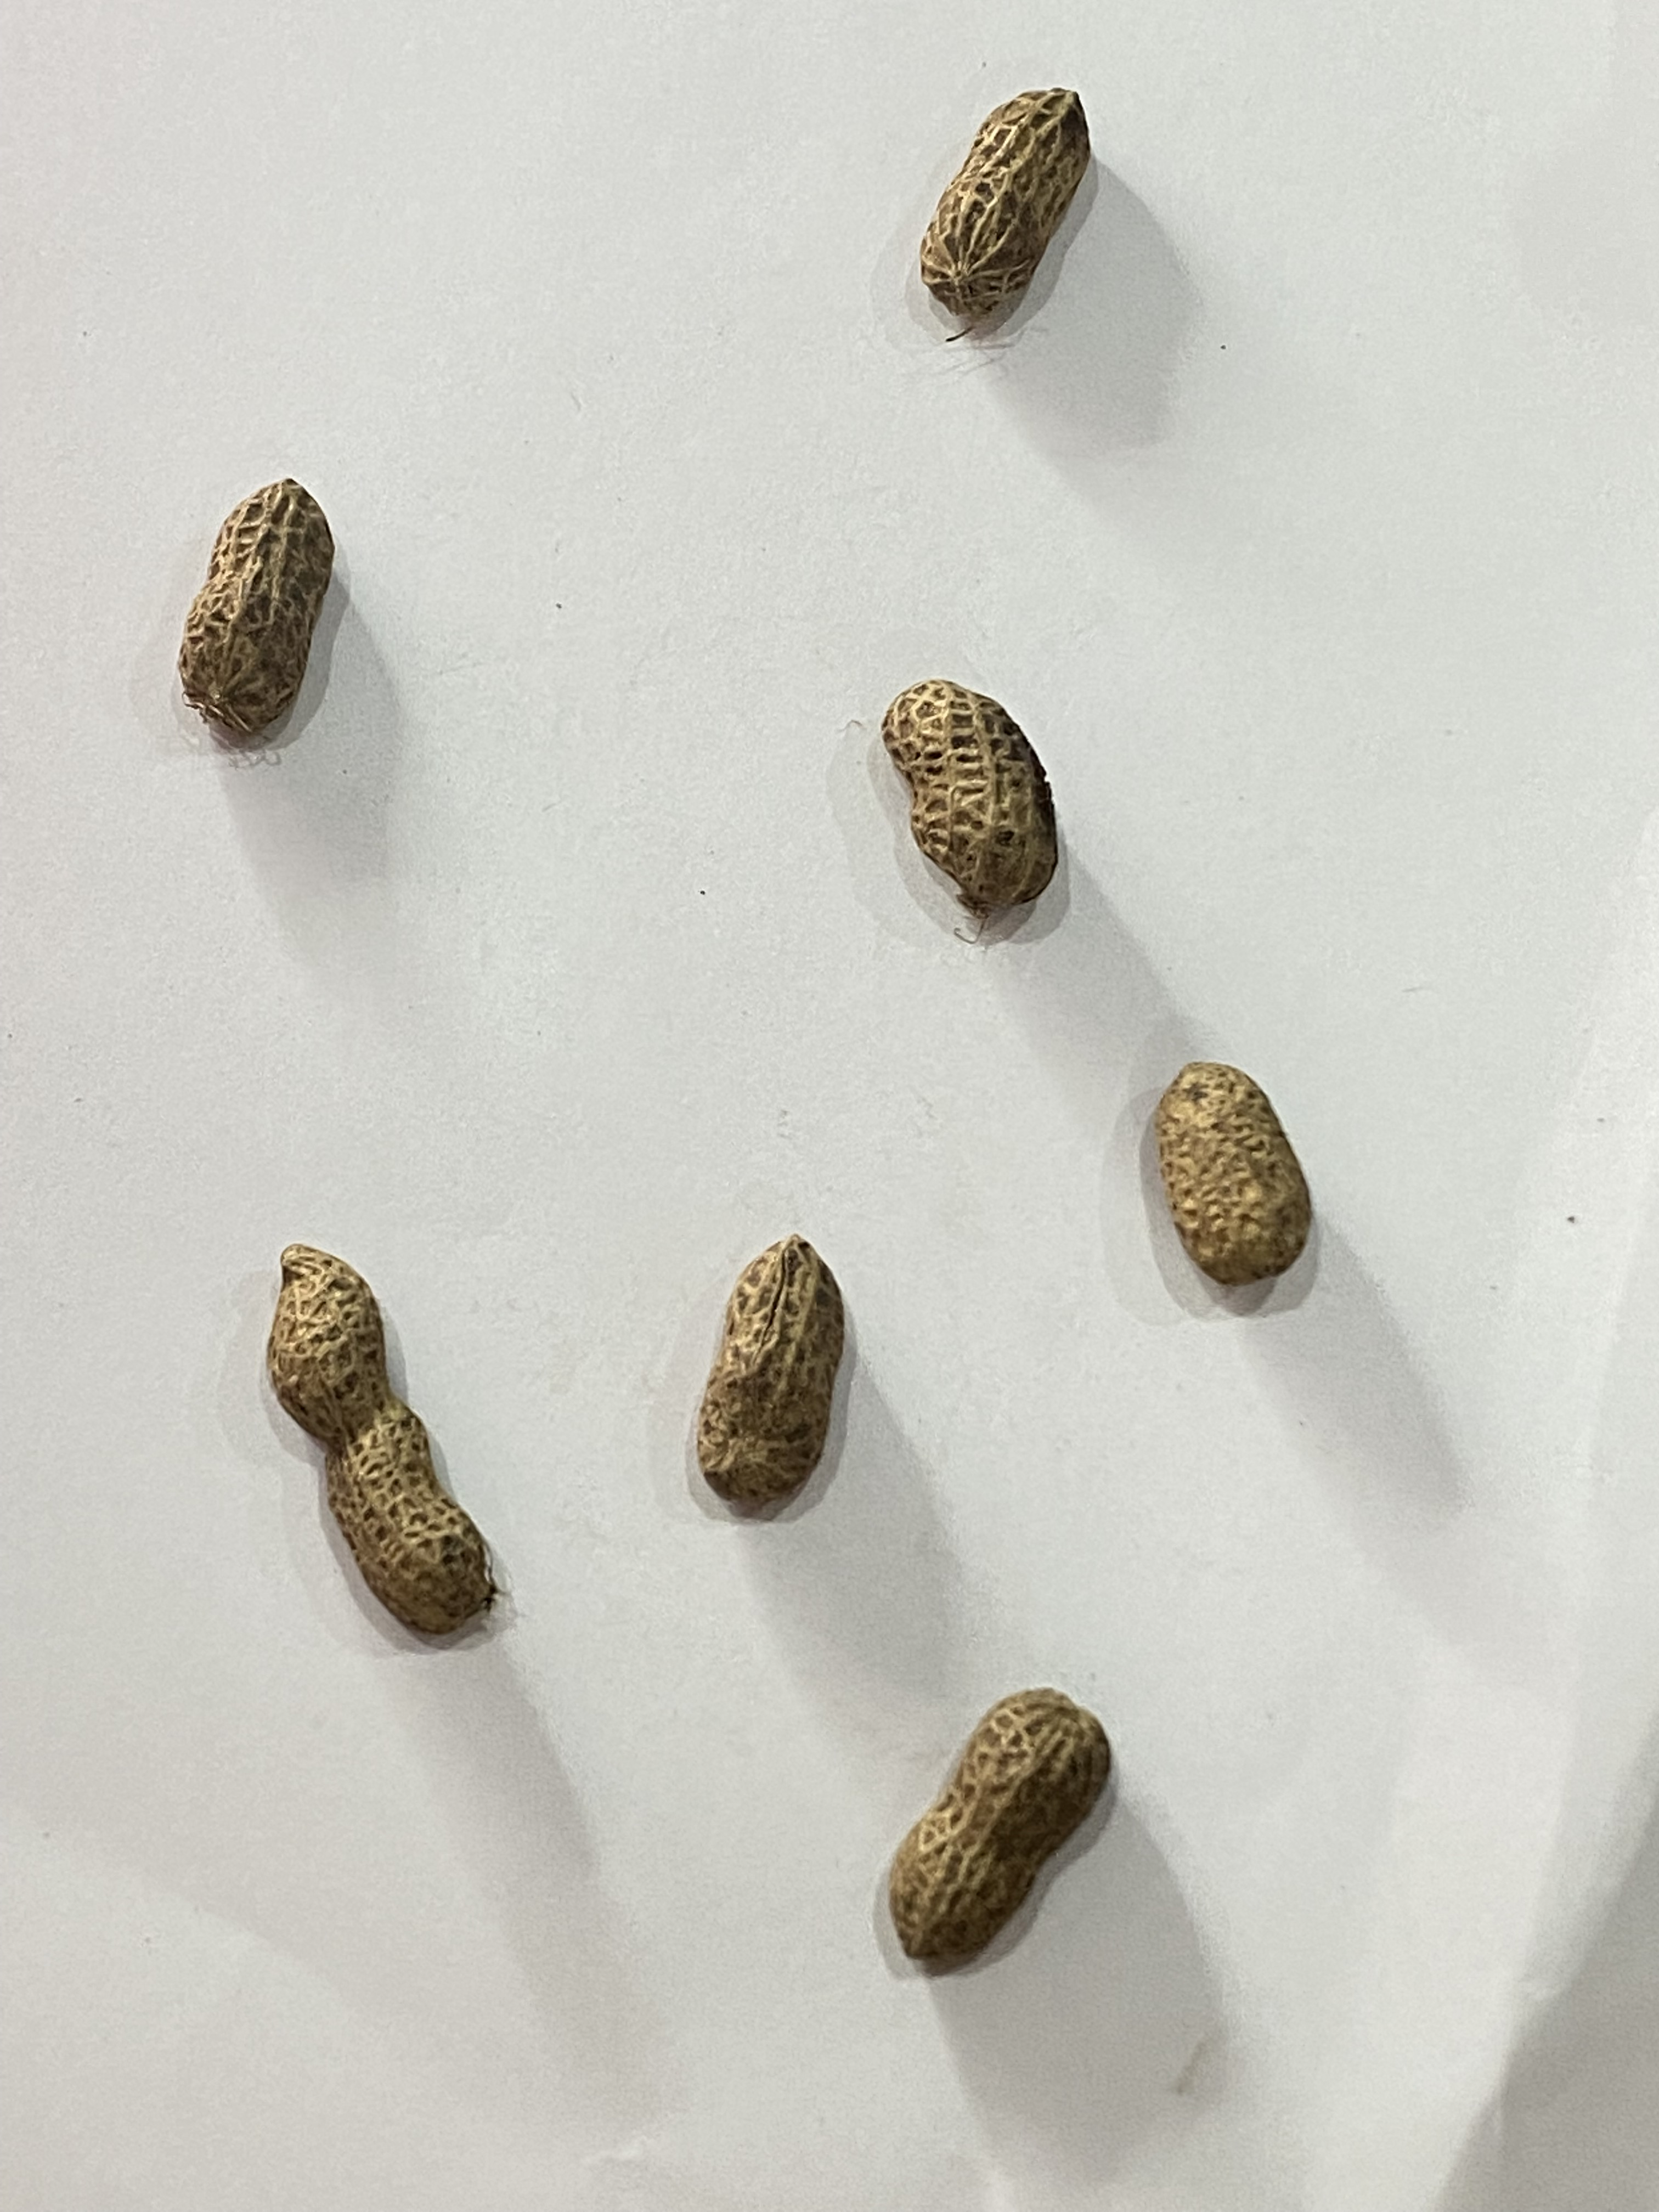kacang1: (1122, 1042, 1363, 1315), (859, 660, 1084, 942)
kacang2: (859, 1683, 1178, 1977), (875, 70, 1122, 359), (676, 1198, 868, 1541), (145, 444, 345, 763)
kacang3: (228, 1230, 530, 1648)
